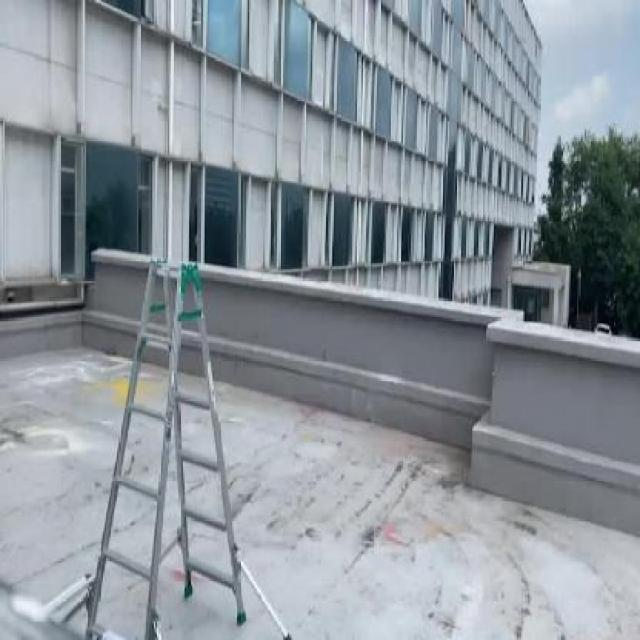boots: (55, 227, 301, 638)
